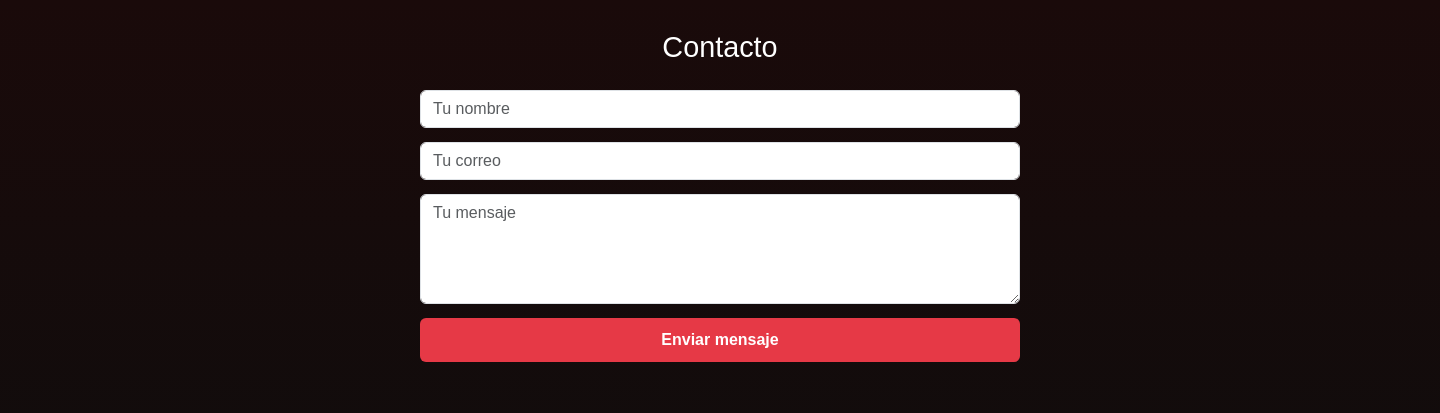
Test case: Contacto (página) › con datos válidos confirma el envío y limpia el formulario (estado)
This screenshot has width=1440, height=413.
Step 1. Type "Ana Pérez" into the field with placeholder "Tu nombre" → (720, 108), box [420, 90, 1020, 128]
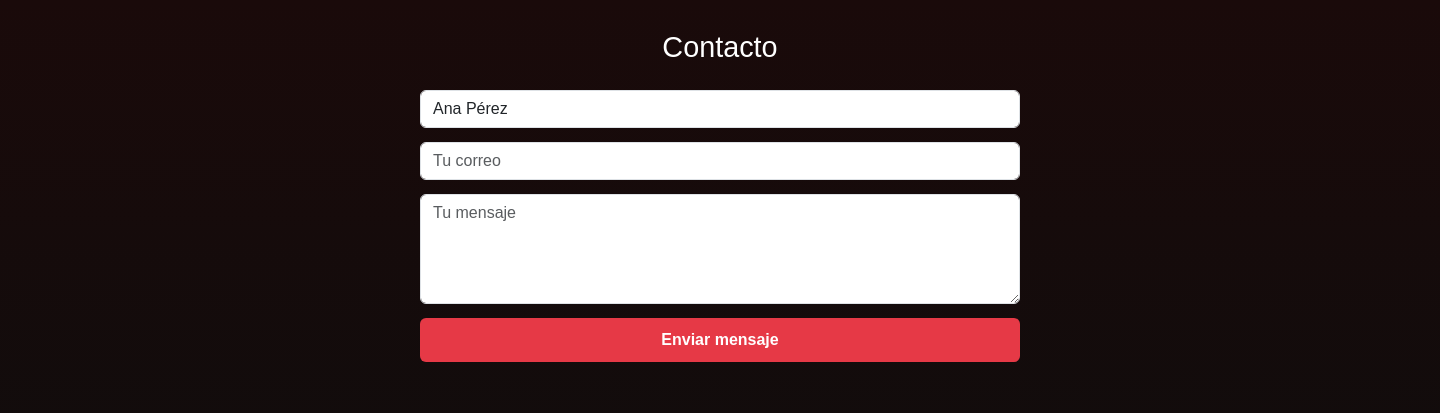
Step 2. Type "ana@mail.cl" into the field with placeholder "Tu correo" → (720, 160), box [420, 142, 1020, 180]
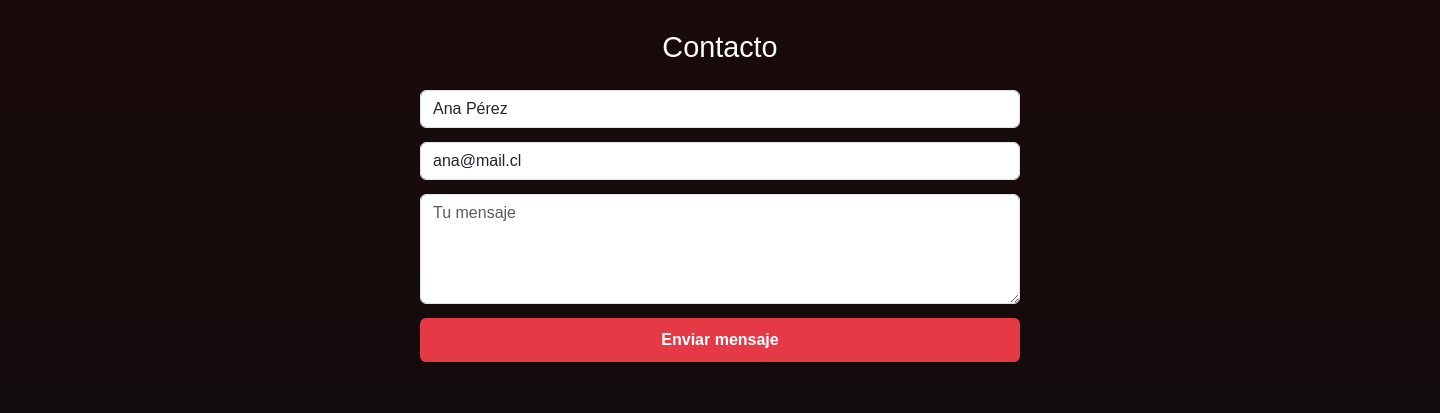
Step 3. Type "Hola, quiero consultar por stock" into the text box with placeholder "Tu mensaje" → (720, 248), box [420, 194, 1020, 304]
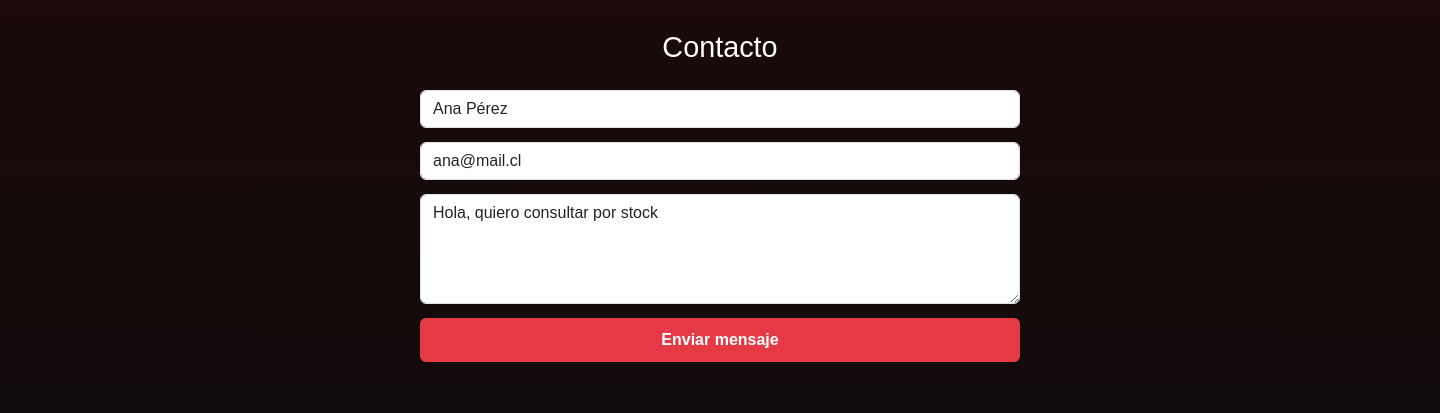
Step 4. Click the button "Enviar mensaje" → (720, 340), box [420, 318, 1020, 362]
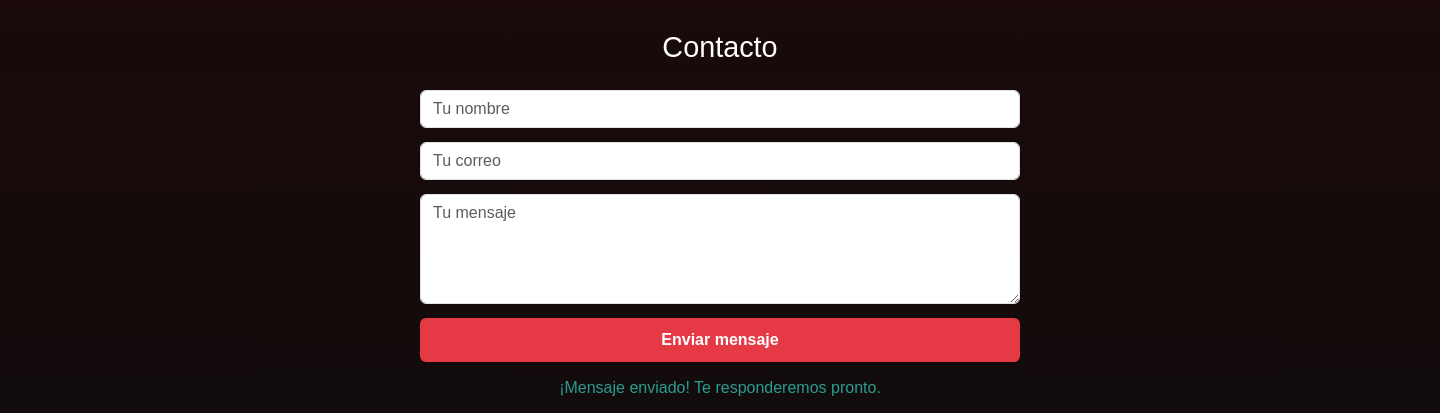
Expected: the text "¡Mensaje enviado! Te responderemos pronto." is shown, [559, 378, 881, 396]
Expected: the field with placeholder "Tu nombre" is empty, [420, 90, 1020, 128]
Expected: the text box with placeholder "Tu mensaje" is empty, [420, 194, 1020, 304]
